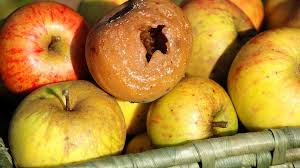apple: (231, 38, 300, 127)
damaged_apple: (89, 5, 196, 104), (14, 88, 129, 154), (146, 80, 238, 136)
